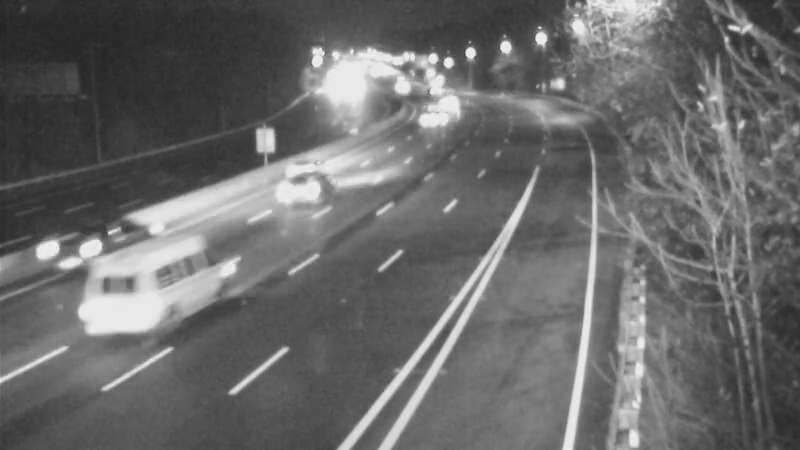vehicle: (59, 250, 169, 360), (274, 123, 354, 203), (260, 154, 340, 234), (34, 213, 114, 293), (412, 85, 462, 135)
